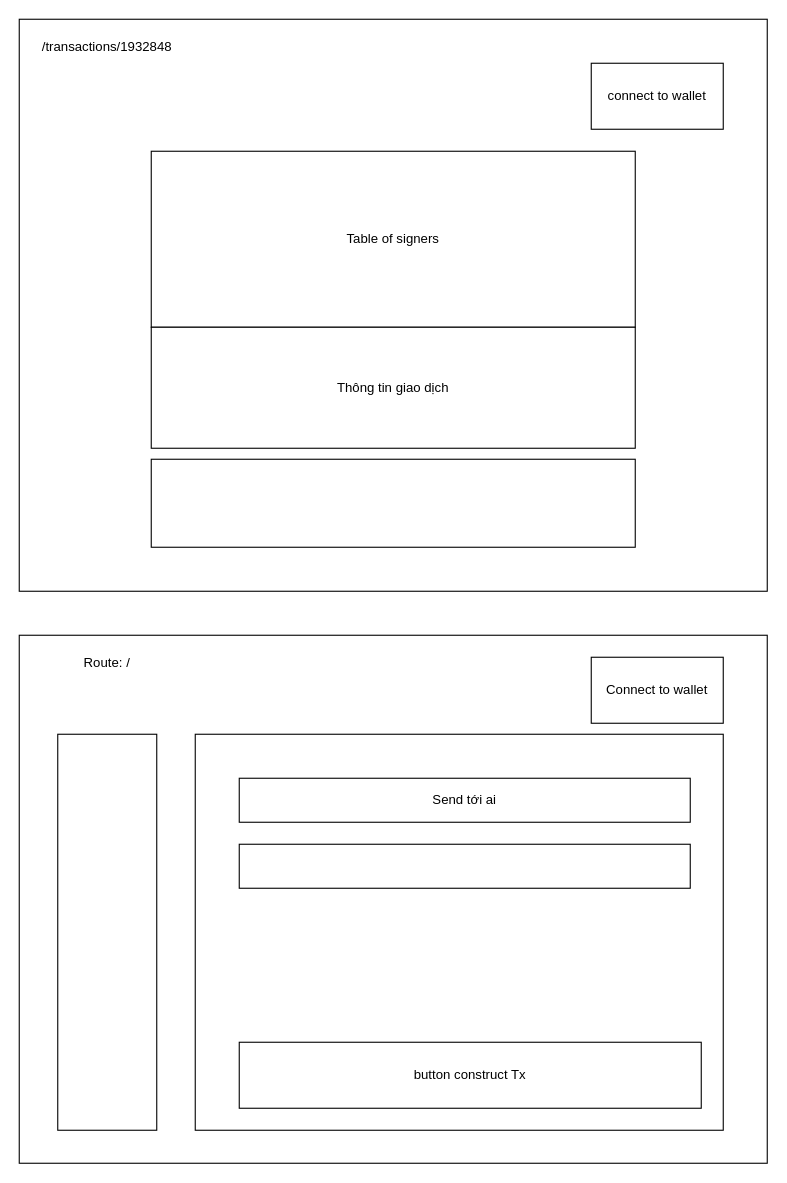
Some shapes in this 787 by 1183 pixel diagram are drawn without their labels. Here are the shapes that lost their labels. From the top down, the box of each, then its label:
(150, 458, 635, 547): Sign
(57, 733, 157, 1130): Các lựa chọn 1. Send 2. Quản lý public key 3. ...
(194, 733, 723, 1130): Form Send
